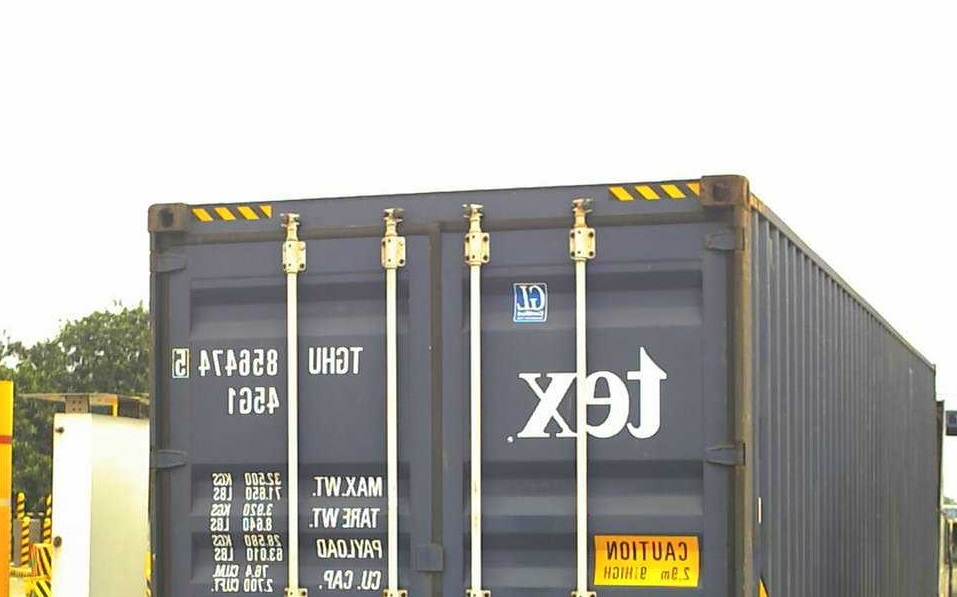container_door: (148, 170, 748, 597)
